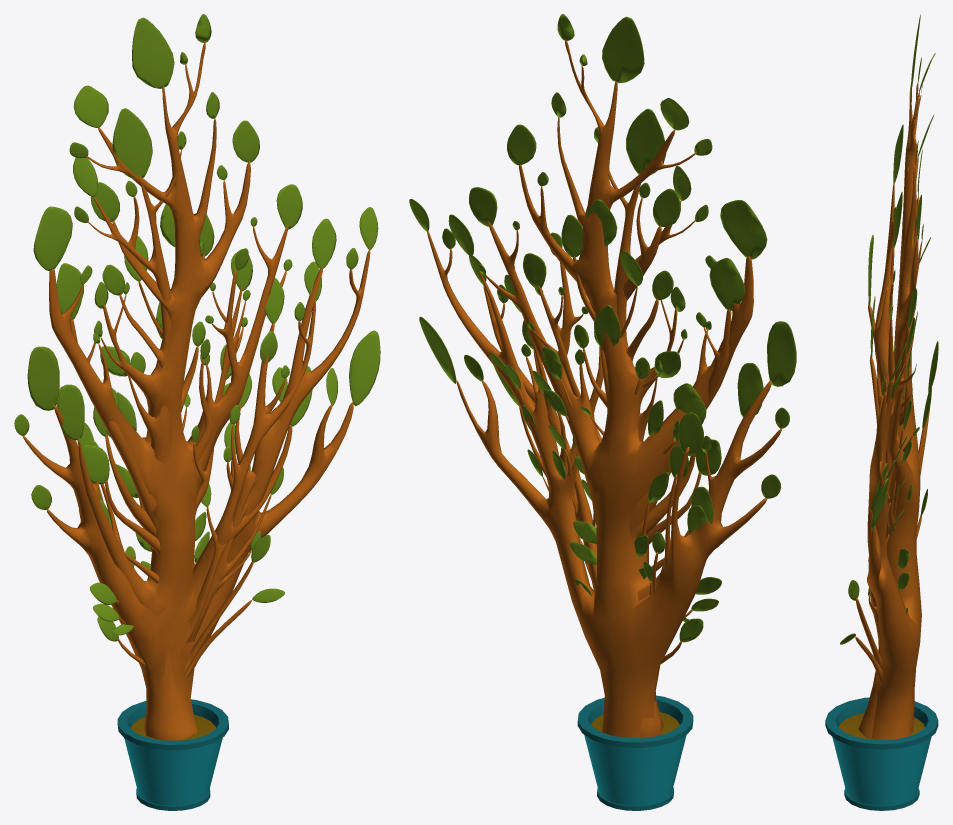
The model's file is SekizAgacTekSaks (1).fbx.
The picture shows the model from 3 angles, left to right: view 1: azimuth 30°, elevation 25°; view 2: azimuth 150°, elevation 25°; view 3: azimuth 270°, elevation 25°; orthographic projection. The views are drawn at different scales.
Parts seen in each view (by area): view 1: Toprak8, TopraK7, ANA SAKSI, Toprak6, Toprak5, Toprak3, Toprak4, Toprak2, Toprak1; view 2: Toprak8, TopraK7, ANA SAKSI, Toprak6, Toprak5, Toprak3, Toprak4, Toprak2; view 3: Toprak8, ANA SAKSI, TopraK7, Toprak6, Toprak3, Toprak5, Toprak1, Toprak2.
Boxes of the visible parts, x1=… form: Toprak8: x1=14, y1=14, x2=380, y2=729; TopraK7: x1=56, y1=108, x2=321, y2=740; ANA SAKSI: x1=117, y1=699, x2=228, y2=810; Toprak6: x1=79, y1=204, x2=287, y2=641; Toprak5: x1=81, y1=302, x2=261, y2=642; Toprak3: x1=90, y1=464, x2=270, y2=672; Toprak4: x1=99, y1=392, x2=250, y2=643; Toprak2: x1=93, y1=528, x2=284, y2=676; Toprak1: x1=112, y1=561, x2=215, y2=740; Toprak8: x1=409, y1=14, x2=796, y2=737; TopraK7: x1=469, y1=108, x2=763, y2=737; ANA SAKSI: x1=577, y1=695, x2=693, y2=810; Toprak6: x1=505, y1=199, x2=713, y2=592; Toprak5: x1=521, y1=305, x2=721, y2=595; Toprak3: x1=573, y1=472, x2=721, y2=664; Toprak4: x1=552, y1=400, x2=679, y2=571; Toprak2: x1=569, y1=535, x2=718, y2=619; Toprak8: x1=867, y1=14, x2=938, y2=739; ANA SAKSI: x1=825, y1=697, x2=938, y2=810; TopraK7: x1=858, y1=94, x2=934, y2=738; Toprak6: x1=870, y1=217, x2=930, y2=654; Toprak3: x1=848, y1=548, x2=909, y2=669; Toprak5: x1=868, y1=311, x2=919, y2=653; Toprak1: x1=839, y1=608, x2=924, y2=739; Toprak2: x1=840, y1=572, x2=909, y2=684.
Size of the model in its own units: 131 by 264 by 35.04.
